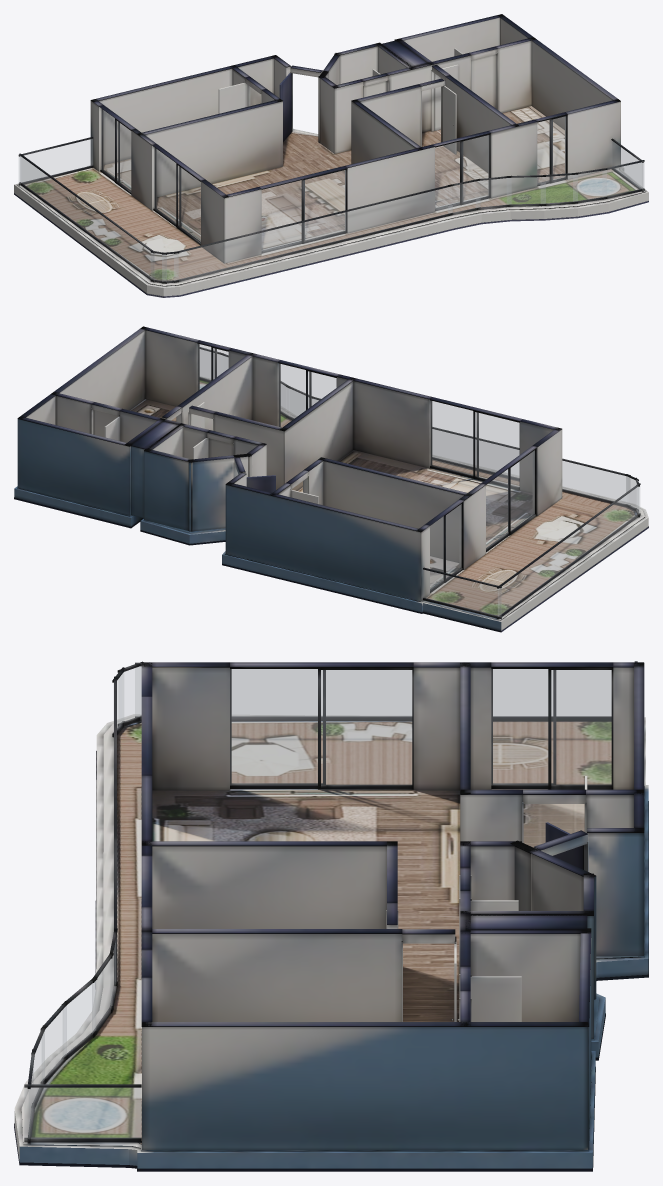
The picture shows the model from 3 angles, top to bottom: view 1: azimuth 30°, elevation 25°; view 2: azimuth 150°, elevation 25°; view 3: azimuth 270°, elevation 25°; orthographic projection. The views are drawn at different scales.
Parts seen in each view (by area): view 1: plan, railg1_m, glass2_m, railg3_m, glass3_m, glass0_m, railg0_m, glass1_m, glass4_m, railg4_m, railg7_m, railg6_m (+6 smaller); view 2: plan, glass2_m, railg3_m, railg1_m, glass0_m, railg0_m, glass3_m, glass1_m, glass4_m; view 3: plan, glass0_m, railg3_m, glass1_m, railg2_m, railg7_m, railg6_m, railg11_m, railg8_m.
Part boxes in pixels (bbox=[...]): plan: bbox=[14, 14, 648, 297]; railg1_m: bbox=[174, 186, 452, 280]; glass2_m: bbox=[262, 170, 345, 250]; railg3_m: bbox=[20, 157, 154, 279]; glass3_m: bbox=[435, 135, 488, 208]; glass0_m: bbox=[154, 147, 200, 241]; railg0_m: bbox=[19, 139, 92, 183]; glass1_m: bbox=[101, 108, 130, 190]; glass4_m: bbox=[537, 116, 565, 183]; railg4_m: bbox=[602, 162, 644, 197]; railg7_m: bbox=[507, 177, 545, 204]; railg6_m: bbox=[541, 175, 577, 203]; plan: bbox=[14, 326, 648, 632]; glass2_m: bbox=[430, 401, 519, 486]; railg3_m: bbox=[498, 487, 639, 616]; railg1_m: bbox=[433, 429, 629, 503]; glass0_m: bbox=[486, 451, 534, 549]; railg0_m: bbox=[423, 570, 501, 616]; glass3_m: bbox=[279, 364, 336, 427]; glass1_m: bbox=[430, 504, 461, 590]; glass4_m: bbox=[198, 344, 228, 390]; plan: bbox=[14, 661, 648, 1171]; glass0_m: bbox=[230, 669, 411, 785]; railg3_m: bbox=[135, 666, 610, 716]; glass1_m: bbox=[491, 669, 611, 785]; railg2_m: bbox=[24, 1088, 141, 1138]; railg7_m: bbox=[63, 981, 95, 1057]; railg6_m: bbox=[42, 1006, 66, 1081]; railg11_m: bbox=[119, 666, 140, 723]; railg8_m: bbox=[92, 959, 112, 1033].
Bounding box in the file's own units: 17.25 × 2.62 × 10.54.
Materials: 2 (1 with a texture image).
